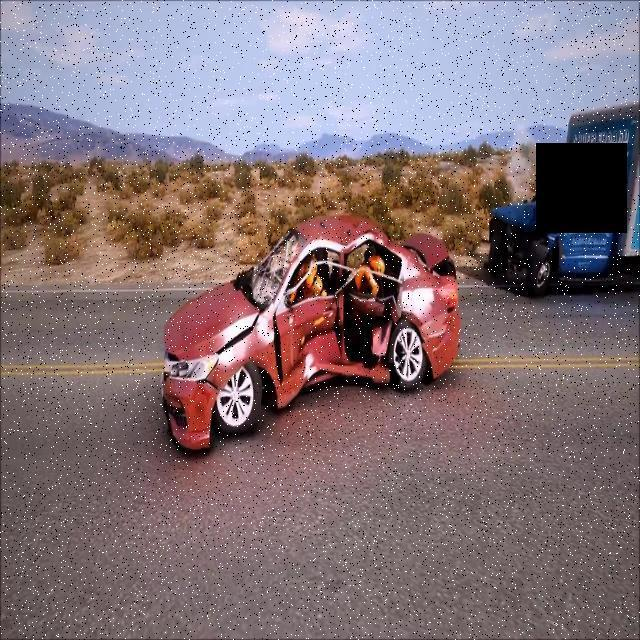multiple_accident: (157, 225, 446, 464), (460, 73, 640, 333)
